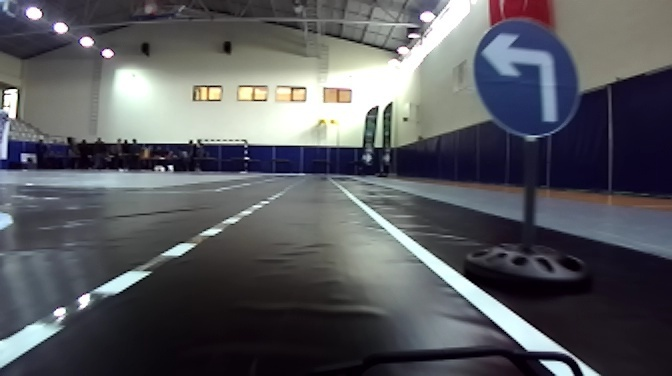sola_donus: (471, 19, 581, 133)
